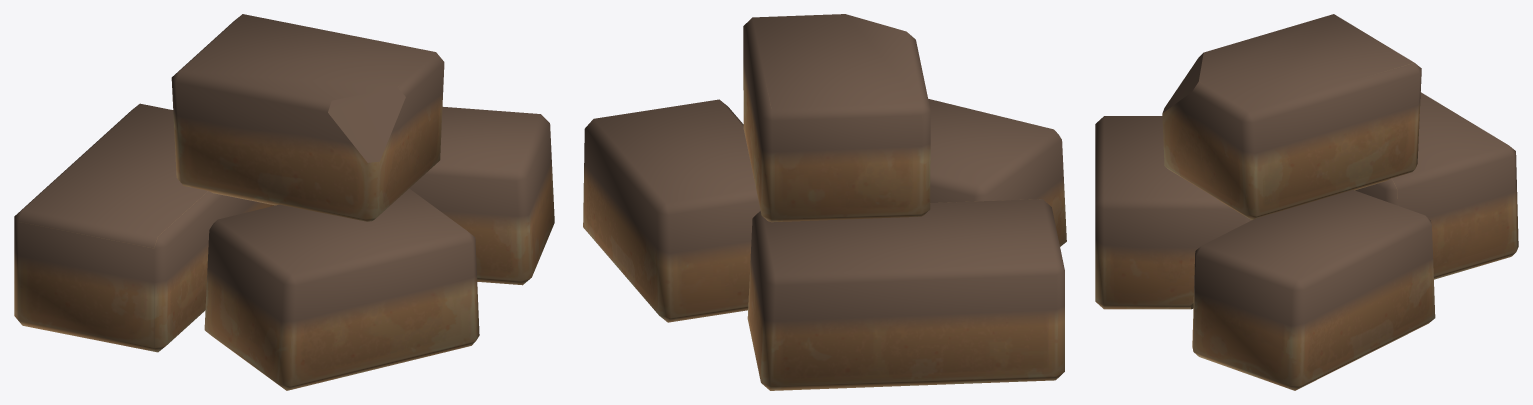
Rendered from SM_brick_03.glb.
3 views of the same model, side by side, from view 1: azimuth 30°, elevation 25°; view 2: azimuth 150°, elevation 25°; view 3: azimuth 270°, elevation 25° (orthographic). The views are drawn at different scales.
Visible parts, largest first — view 1: SM_brick_03; view 2: SM_brick_03; view 3: SM_brick_03.
Part boxes in pixels (<box>): SM_brick_03: <box>14,14,554,390</box>; SM_brick_03: <box>583,14,1066,390</box>; SM_brick_03: <box>1095,14,1518,390</box>.
Bounding box in the file's own units: 1.16 × 0.5034 × 0.8894.
1 material, 1 textured.
